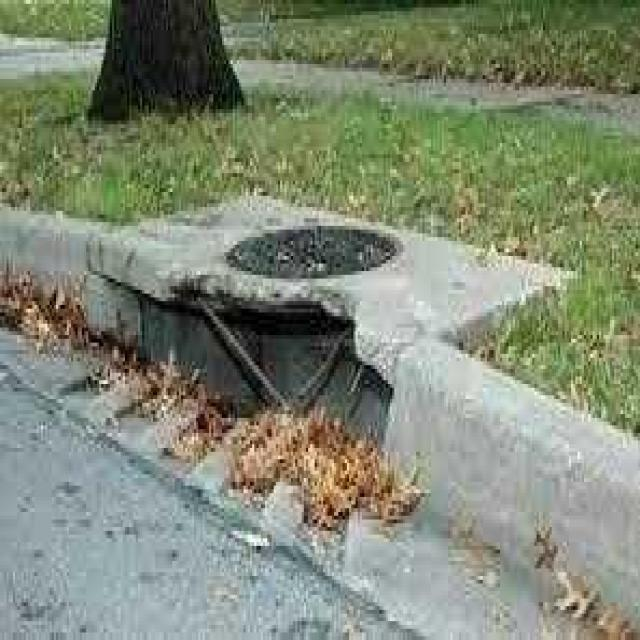curb: (245, 291, 640, 629), (10, 204, 233, 442)
